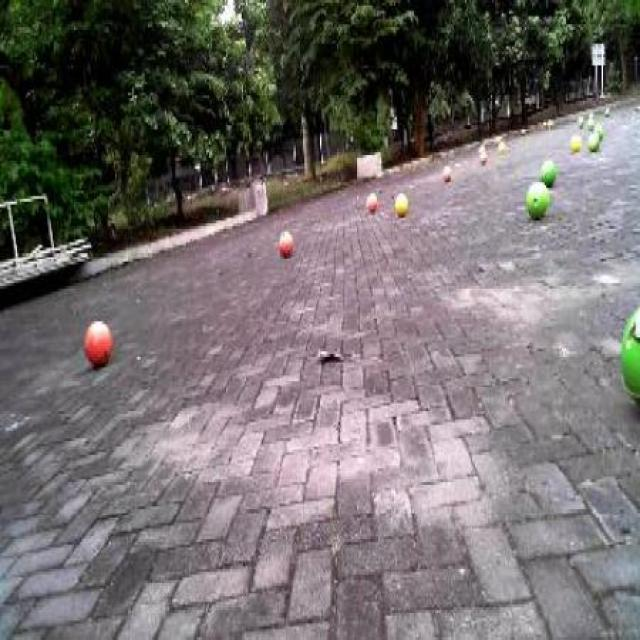buoy: (608, 292, 638, 413), (77, 311, 116, 373), (519, 169, 555, 226), (270, 215, 302, 267), (357, 180, 384, 225), (388, 180, 411, 225)
